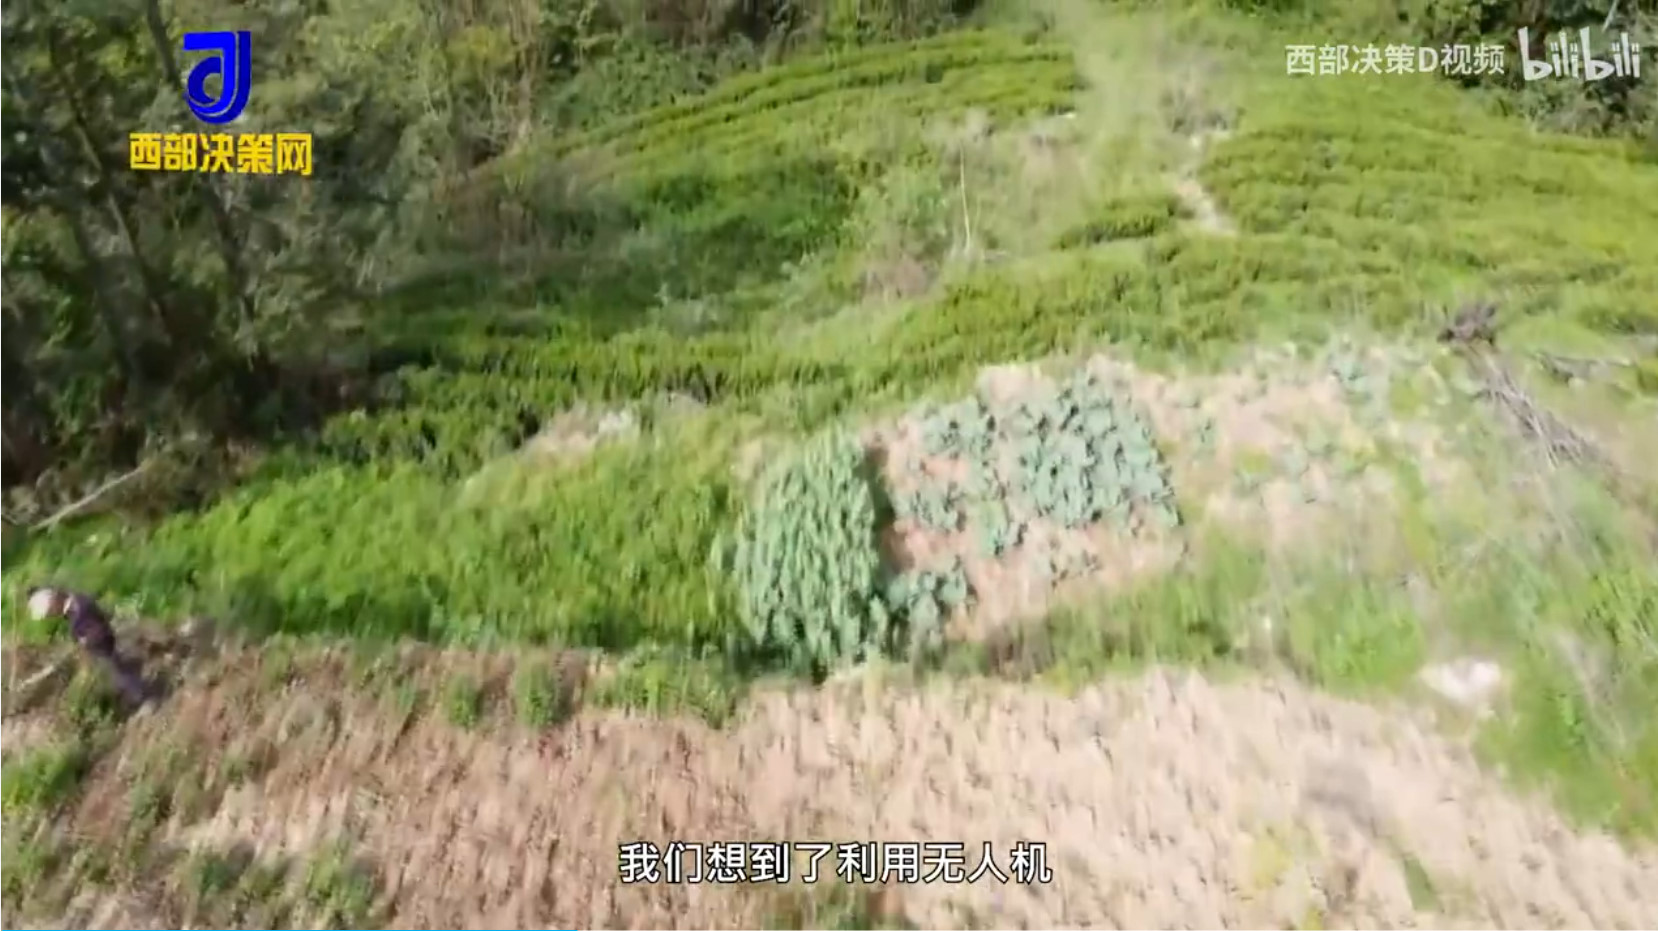Poppy: (912, 368, 1190, 619), (712, 422, 910, 682)
